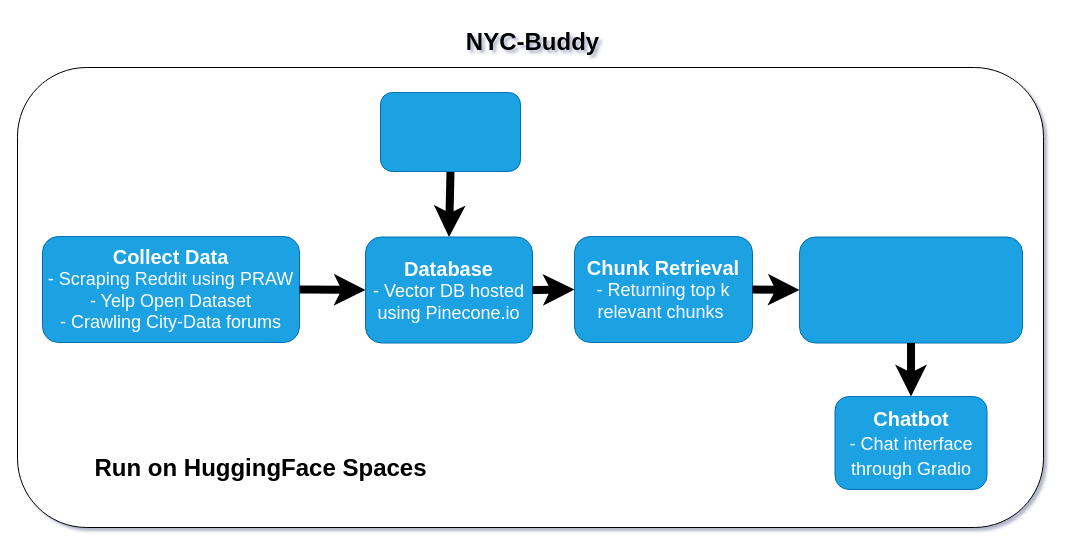
The diagram is 1067 pixels wide and 551 high, and some of its shapes have lost their labels. Each missing label, with the centre of its shape:
"LLM Generation - Hosted using Groq - Model llama3-70b-8192" goes at [910,289].
"User Query - Chat interface through Gradio" goes at [450,132].
